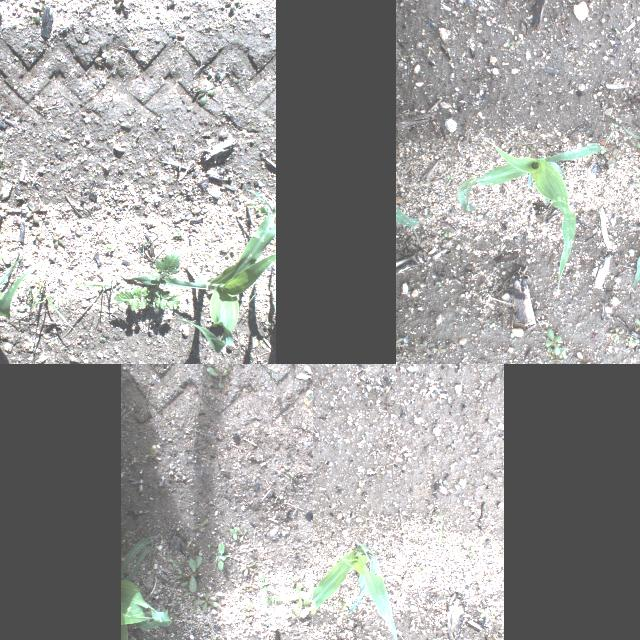crop: (117, 190, 276, 352), (457, 139, 601, 293), (313, 545, 400, 640), (0, 153, 41, 326), (121, 535, 171, 640), (621, 123, 640, 290), (396, 207, 430, 243)
weed: (159, 364, 313, 403), (112, 253, 182, 313), (29, 280, 76, 332), (175, 556, 201, 592), (592, 132, 612, 158), (544, 328, 562, 356), (214, 542, 232, 570), (206, 367, 228, 387), (192, 594, 218, 610), (546, 344, 566, 364), (286, 584, 302, 608), (300, 590, 313, 617), (295, 364, 313, 382), (604, 146, 618, 166), (166, 558, 182, 574), (436, 516, 444, 548), (262, 596, 282, 608), (258, 571, 268, 595), (420, 339, 434, 356), (241, 603, 253, 621), (190, 519, 208, 531), (468, 548, 480, 566), (610, 326, 624, 340), (142, 445, 156, 459), (240, 562, 254, 576), (288, 574, 302, 588), (429, 345, 446, 355), (284, 608, 300, 618), (633, 317, 640, 337), (161, 608, 175, 618), (229, 527, 239, 541), (242, 580, 258, 588), (502, 47, 514, 57), (497, 349, 509, 359), (628, 336, 640, 346), (510, 40, 520, 50), (558, 350, 568, 360), (524, 142, 534, 152), (243, 586, 253, 596), (167, 464, 175, 476), (416, 565, 432, 571), (636, 137, 640, 160), (634, 138, 640, 152), (240, 529, 247, 541), (339, 600, 345, 614), (304, 631, 313, 640), (444, 174, 454, 182), (548, 352, 556, 361), (402, 51, 412, 58), (235, 595, 242, 605), (480, 609, 488, 617), (588, 353, 594, 363), (408, 351, 414, 361), (279, 464, 289, 470), (444, 230, 451, 238), (578, 361, 595, 364), (610, 122, 618, 128), (488, 322, 496, 328), (620, 218, 628, 224), (614, 28, 620, 34), (310, 585, 313, 594), (530, 330, 536, 334), (177, 597, 181, 603), (360, 434, 366, 438), (437, 282, 441, 286), (512, 338, 516, 342), (288, 472, 292, 476), (598, 220, 600, 226)
